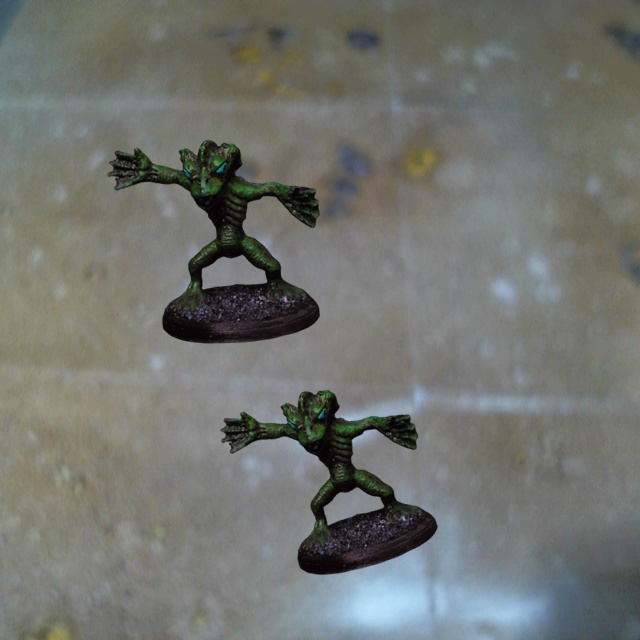pieza_juego: (107, 140, 319, 343), (220, 390, 437, 574)
